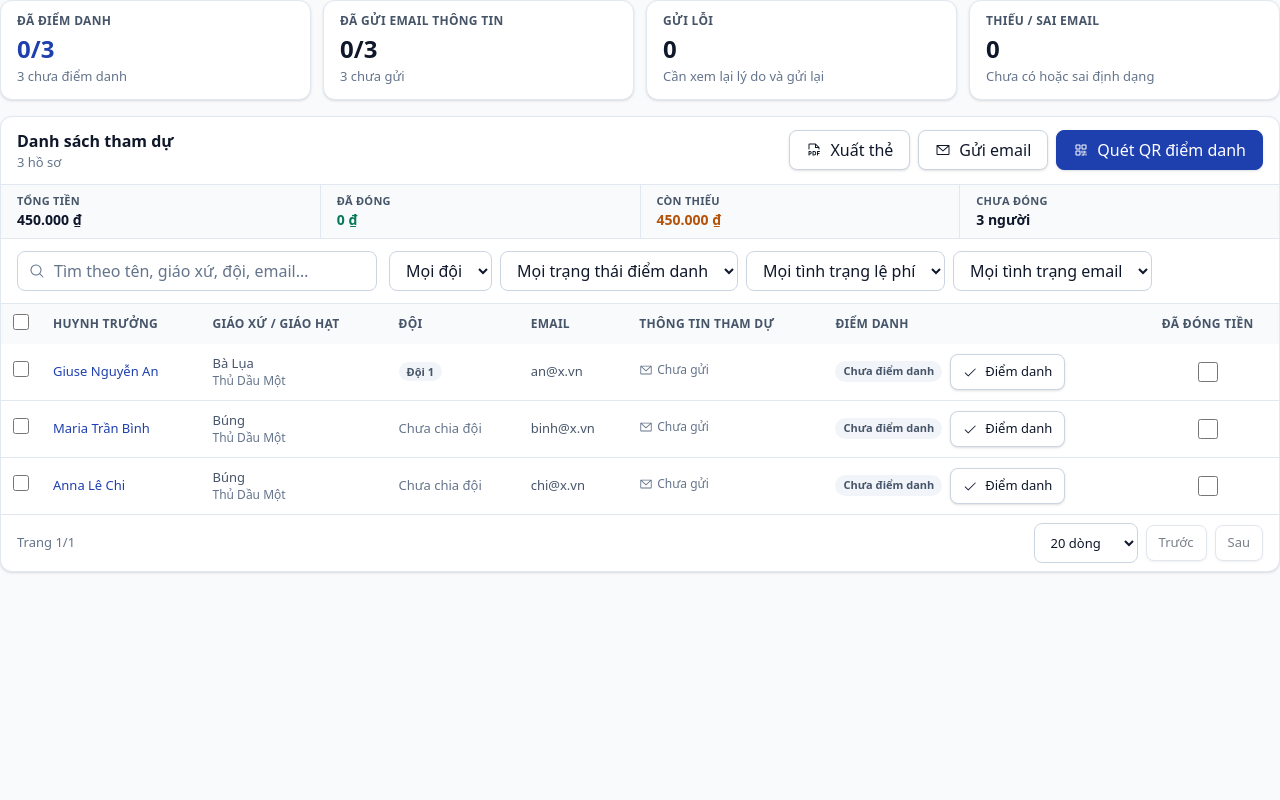
it: CourseParticipantsHub: tích đóng lệ phí tự lưu › tích là đổi ngay, các con số cập nhật theo, lưu nền và không báo thành công
This screenshot has width=1280, height=800.
What coordinates should you click on to do the following:
click the checkbox named "Đã đóng lệ phí: Nguyễn An"
I would click on:
 (1208, 372)
Its box is left=1198, top=362, right=1218, bottom=382.
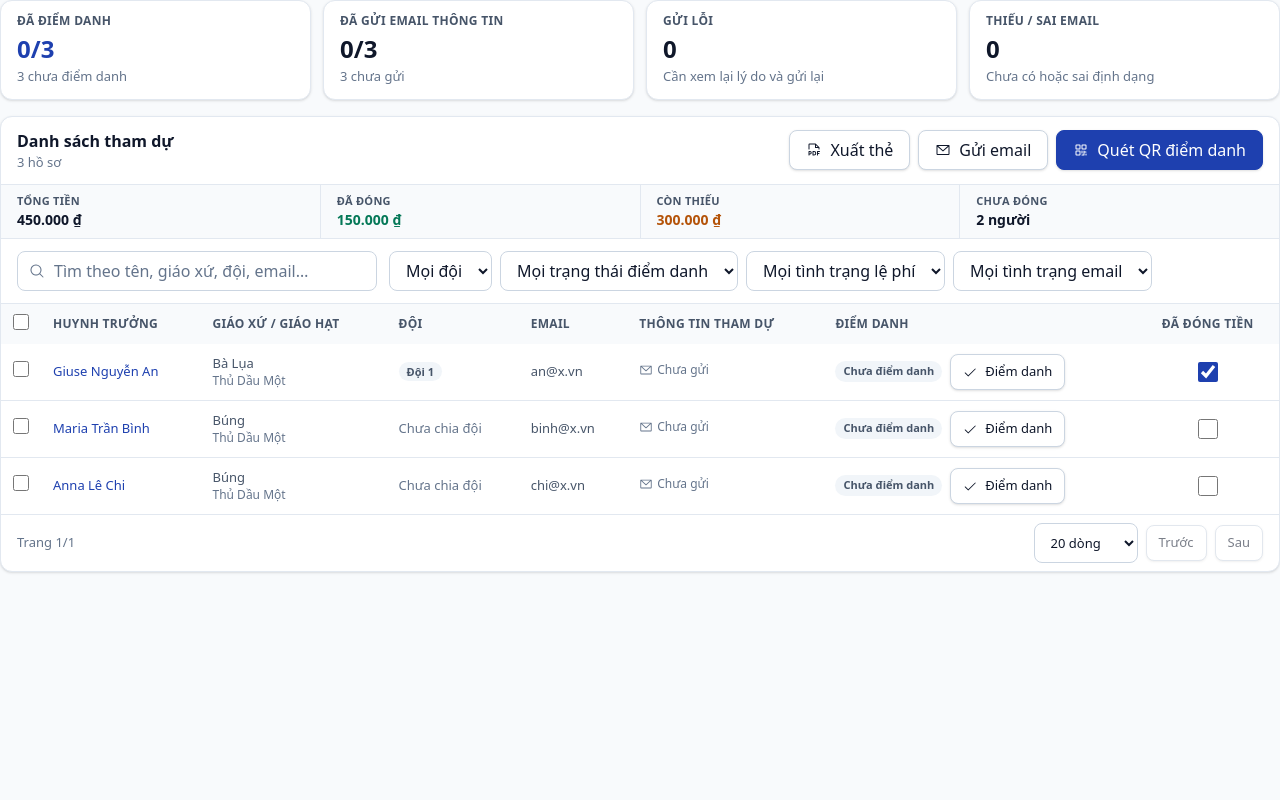
Expected: the checkbox named "Đã đóng lệ phí: Nguyễn An" is checked, left=1198, top=362, right=1218, bottom=382
Expected: the text "150.000 ₫" is shown, left=337, top=210, right=402, bottom=228
Expected: the text "300.000 ₫" is shown, left=656, top=210, right=721, bottom=228
